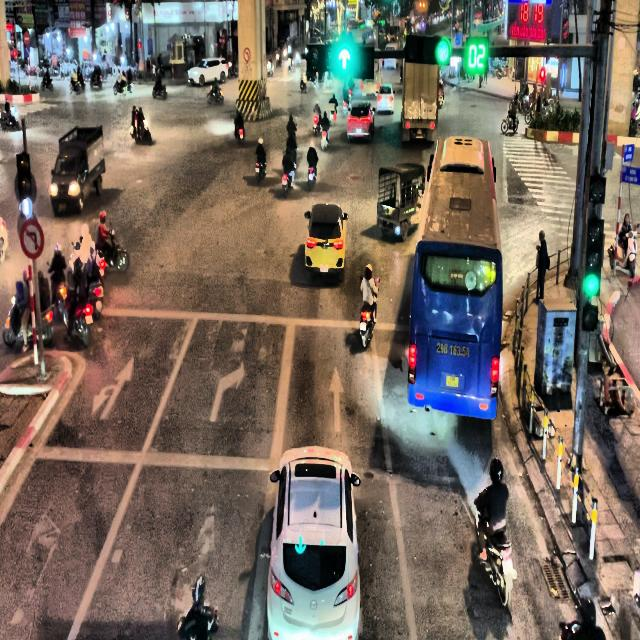BUS: (407, 136, 503, 420)
CAR: (266, 445, 361, 639), (304, 202, 348, 277), (187, 57, 230, 86), (347, 101, 374, 143), (376, 83, 394, 114)
MOTORBIKE: (474, 488, 517, 608), (2, 267, 54, 349), (60, 241, 94, 348), (177, 576, 219, 639), (559, 596, 606, 640), (97, 222, 129, 272), (359, 276, 380, 348), (130, 117, 152, 144), (0, 100, 18, 129), (282, 162, 295, 197), (501, 110, 519, 133), (0, 218, 8, 262), (255, 156, 266, 184), (152, 79, 167, 99), (113, 79, 133, 94), (207, 87, 223, 104), (69, 75, 81, 94), (320, 126, 329, 151), (308, 164, 316, 190), (90, 72, 102, 89), (235, 124, 244, 145), (41, 76, 53, 91), (313, 113, 321, 135), (300, 74, 307, 92)
TRUCK: (49, 125, 106, 216)
